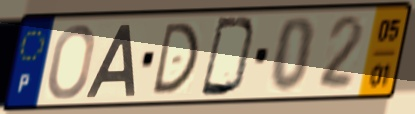0: (269, 15, 318, 95)
2: (315, 13, 366, 93)
A: (82, 22, 137, 100)
D: (197, 15, 260, 99), (149, 20, 201, 98)
O: (46, 22, 97, 102)
